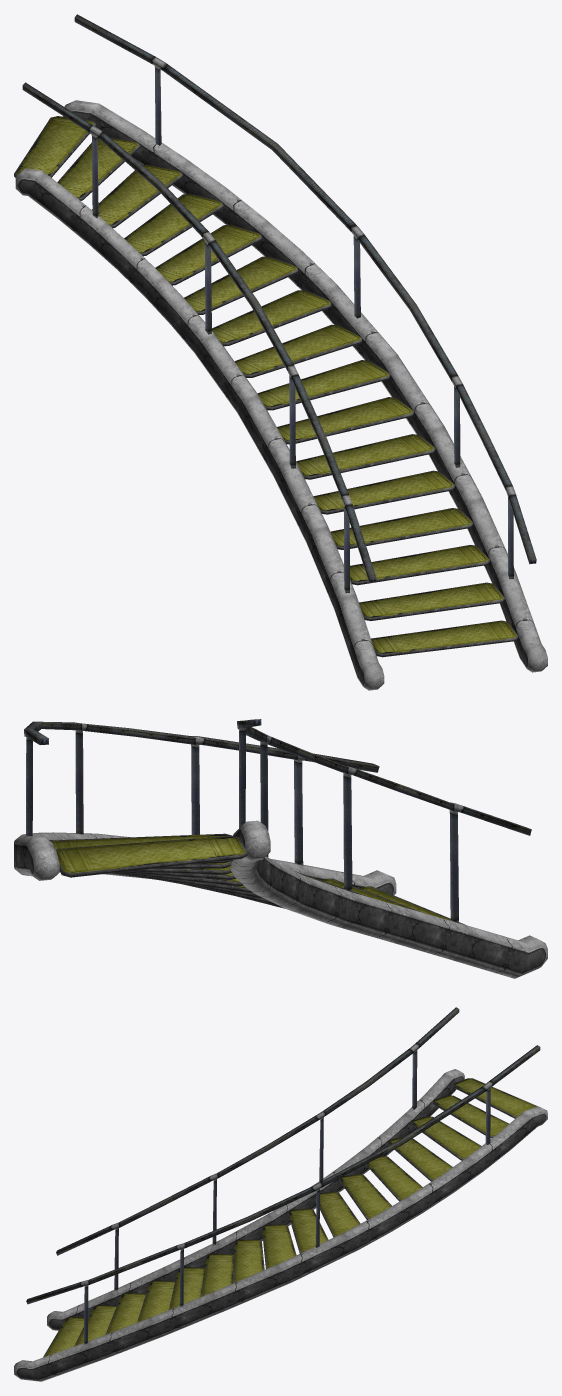
Rendered from metal_datasite_concave_right.dae.
3 views of the same model, one above another, from view 1: azimuth 30°, elevation 25°; view 2: azimuth 150°, elevation 25°; view 3: azimuth 270°, elevation 25° (orthographic). The views are drawn at different scales.
Visible parts, largest first — view 1: polySurface19, polySurface24; view 2: polySurface19, polySurface24; view 3: polySurface19, polySurface24.
Part boxes in pixels (<box>): polySurface19: <box>14,100,547,690</box>; polySurface24: <box>22,14,536,593</box>; polySurface19: <box>14,820,547,978</box>; polySurface24: <box>24,719,531,923</box>; polySurface19: <box>14,1069,547,1381</box>; polySurface24: <box>26,1007,540,1344</box>.
Bounding box in the file's own units: 3.59 × 5.43 × 8.84.
2 materials, 2 textured.
